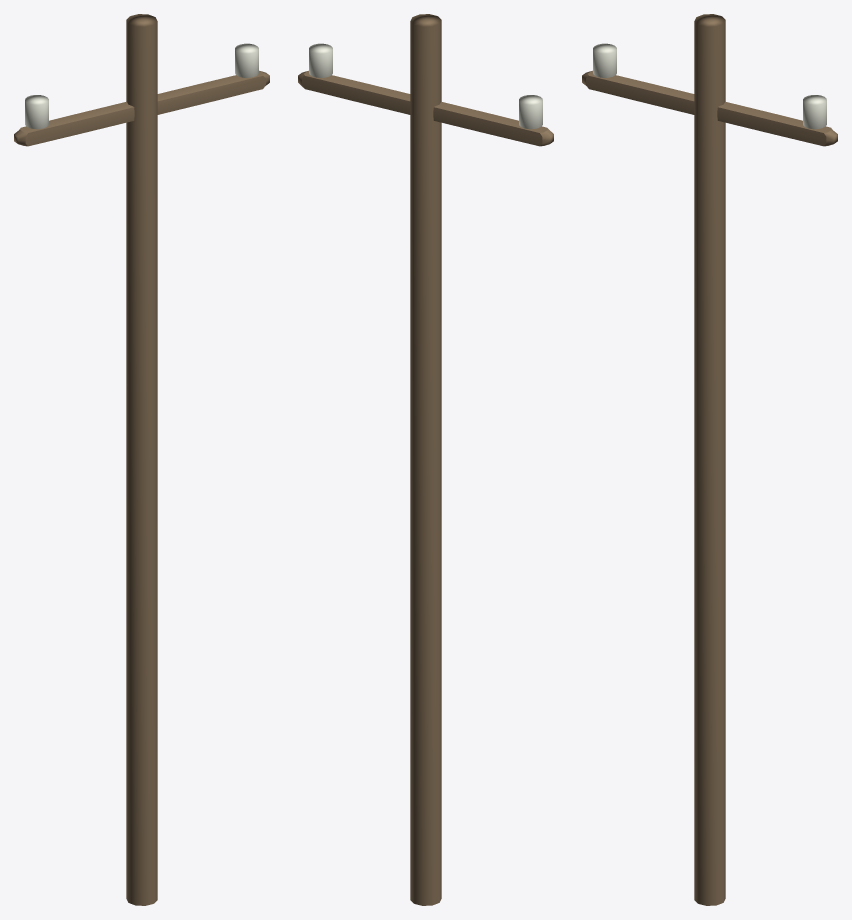
The model's file is utility_pole.glb.
The picture shows the model from 3 angles, left to right: view 1: azimuth 30°, elevation 25°; view 2: azimuth 150°, elevation 25°; view 3: azimuth 330°, elevation 25°; orthographic projection.
Parts seen in each view (by area): view 1: static_wood, static_sign_white; view 2: static_wood, static_sign_white; view 3: static_wood, static_sign_white.
Part boxes in pixels (left/top/right/bottom): static_wood: left=14, top=14, right=269, bottom=905; static_sign_white: left=25, top=43, right=258, bottom=129; static_wood: left=298, top=14, right=553, bottom=905; static_sign_white: left=309, top=43, right=542, bottom=129; static_wood: left=582, top=14, right=837, bottom=905; static_sign_white: left=593, top=43, right=826, bottom=129.
Size of the model in its own units: 2.4 by 8 by 0.2473.
